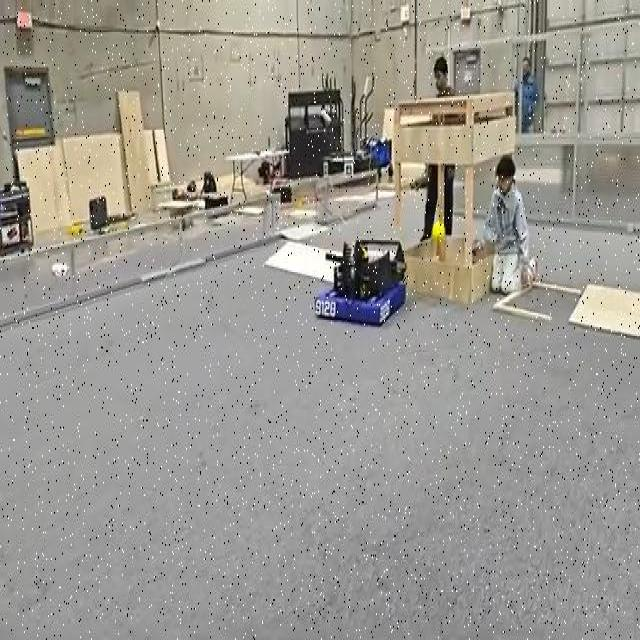Fuel: (432, 220, 444, 240)
